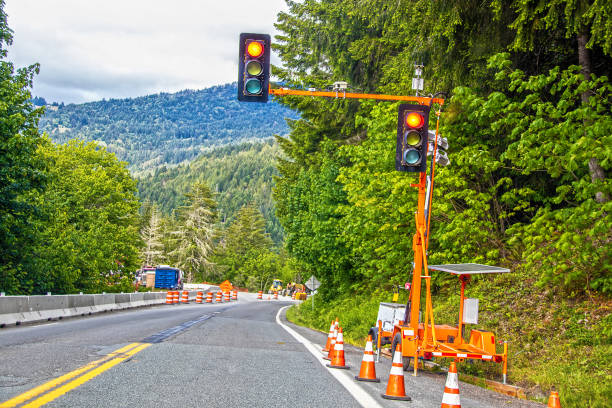trafficlight: (235, 33, 270, 104), (395, 102, 429, 175)
